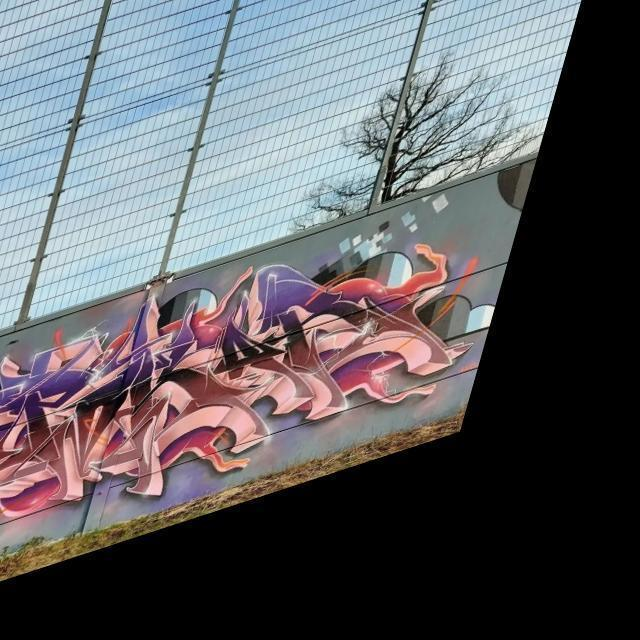nonspitting: (0, 239, 468, 518)
